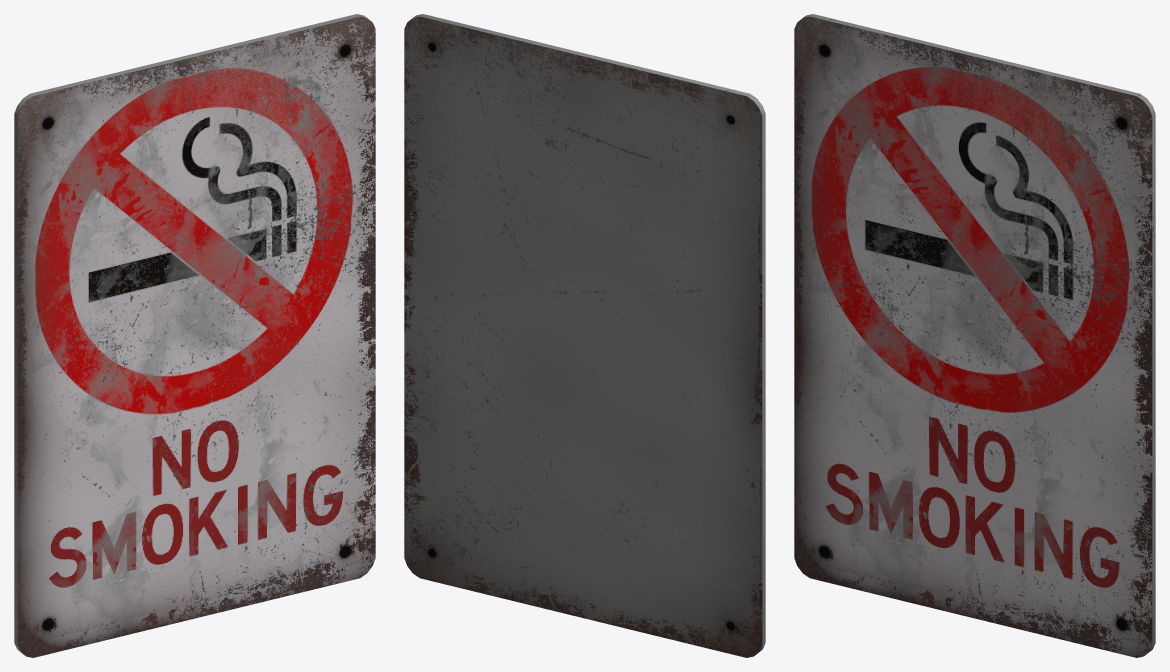
File: Picture 1.FBX
The picture shows the model from 3 angles, left to right: view 1: azimuth 30°, elevation 25°; view 2: azimuth 150°, elevation 25°; view 3: azimuth 330°, elevation 25°; orthographic projection.
Visible parts, largest first — view 1: picture 1; view 2: picture 1; view 3: picture 1.
Boxes of the visible parts, left/top/right/bottom form: picture 1: left=14, top=14, right=375, bottom=657; picture 1: left=404, top=14, right=765, bottom=657; picture 1: left=794, top=14, right=1155, bottom=657.
Size of the model in its own units: 11.81 by 17.72 by 0.1969.
1 material, 1 textured.
